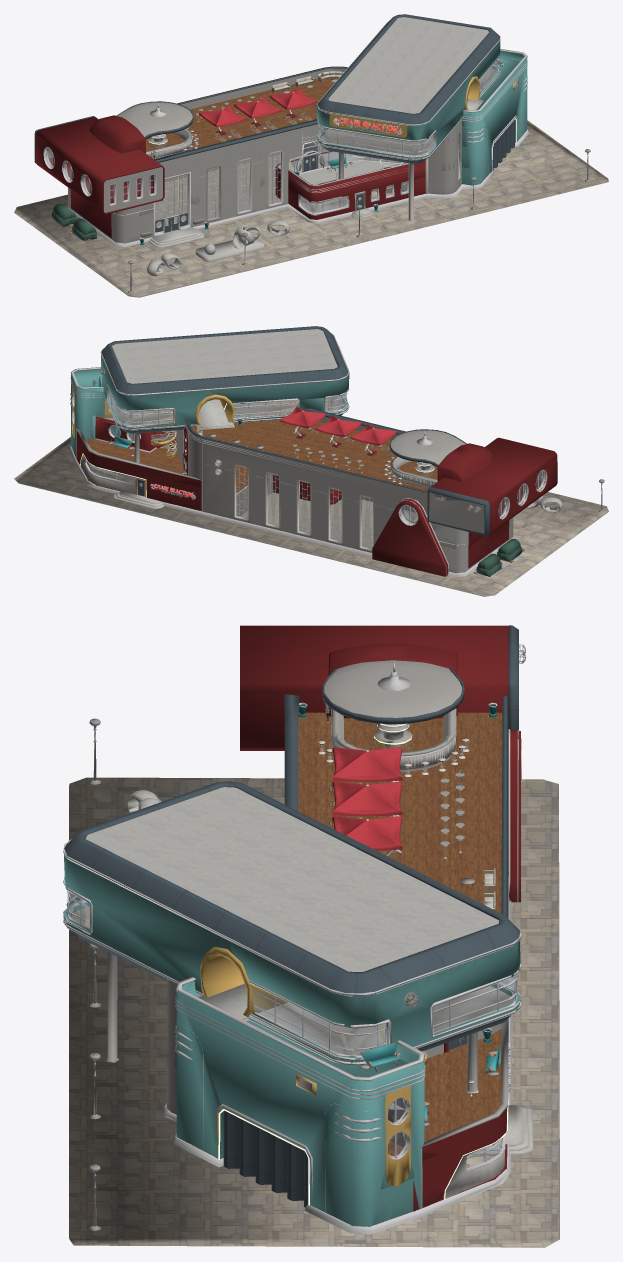
Rendered from cargo_retro_lounge.glb.
The picture shows the model from 3 angles, top to bottom: view 1: azimuth 30°, elevation 25°; view 2: azimuth 150°, elevation 25°; view 3: azimuth 270°, elevation 25°; orthographic projection. The views are drawn at different scales.
Parts seen in each view (by area): view 1: KB3D_ATP_BldgSmClub_A_Building, KB3D_ATP_BldgSmClub_A_Base, KB3D_ATP_BldgSmClub_A_Bar, KB3D_ATP_BldgSmClub_A_Building_transparent, KB3D_ATP_PropSculpture_C_Main, KB3D_ATP_PropUmbrella_B_Main.002, KB3D_ATP_PropUmbrella_B_Main, KB3D_ATP_PropUmbrella_B_Main.001, KB3D_ATP_BldgSmClub_A_SignageB, KB3D_ATP_PropSculpture_B_Main, KB3D_ATP_BldgSmClub_A_DumpsterB, KB3D_ATP_BldgSmClub_A_DumpsterA; view 2: KB3D_ATP_BldgSmClub_A_Building, KB3D_ATP_BldgSmClub_A_Base, KB3D_ATP_BldgSmClub_A_Bar, KB3D_ATP_BldgSmClub_A_Building_transparent, KB3D_ATP_PropUmbrella_B_Main.001, KB3D_ATP_PropUmbrella_B_Main, KB3D_ATP_PropUmbrella_B_Main.002, KB3D_ATP_BldgSmClub_A_DumpsterA, KB3D_ATP_BldgSmClub_A_DumpsterB; view 3: KB3D_ATP_BldgSmClub_A_Building, KB3D_ATP_BldgSmClub_A_Base, KB3D_ATP_BldgSmClub_A_Bar, KB3D_ATP_BldgSmClub_A_Building_transparent, KB3D_ATP_PropUmbrella_B_Main.002, KB3D_ATP_PropUmbrella_B_Main.001, KB3D_ATP_PropUmbrella_B_Main.
Boxes of the visible parts, x1,y1,x2,y2 form: KB3D_ATP_BldgSmClub_A_Building: (34, 14, 528, 247); KB3D_ATP_BldgSmClub_A_Base: (14, 120, 608, 297); KB3D_ATP_BldgSmClub_A_Bar: (89, 101, 193, 159); KB3D_ATP_BldgSmClub_A_Building_transparent: (48, 58, 498, 225); KB3D_ATP_PropSculpture_C_Main: (195, 224, 264, 261); KB3D_ATP_PropUmbrella_B_Main.002: (234, 97, 281, 127); KB3D_ATP_PropUmbrella_B_Main: (269, 88, 317, 118); KB3D_ATP_PropUmbrella_B_Main.001: (199, 105, 246, 135); KB3D_ATP_BldgSmClub_A_SignageB: (333, 117, 402, 135); KB3D_ATP_PropSculpture_B_Main: (146, 253, 181, 276); KB3D_ATP_BldgSmClub_A_DumpsterB: (72, 218, 96, 240); KB3D_ATP_BldgSmClub_A_DumpsterA: (52, 203, 76, 226); KB3D_ATP_BldgSmClub_A_Building: (69, 326, 557, 576); KB3D_ATP_BldgSmClub_A_Base: (14, 437, 608, 596); KB3D_ATP_BldgSmClub_A_Bar: (389, 429, 493, 487); KB3D_ATP_BldgSmClub_A_Building_transparent: (88, 389, 543, 548); KB3D_ATP_PropUmbrella_B_Main.001: (349, 424, 397, 456); KB3D_ATP_PropUmbrella_B_Main: (279, 406, 326, 439); KB3D_ATP_PropUmbrella_B_Main.002: (314, 415, 362, 447); KB3D_ATP_BldgSmClub_A_DumpsterA: (476, 553, 501, 576); KB3D_ATP_BldgSmClub_A_DumpsterB: (497, 538, 521, 561); KB3D_ATP_BldgSmClub_A_Building: (63, 625, 532, 1234); KB3D_ATP_BldgSmClub_A_Base: (69, 777, 559, 1247); KB3D_ATP_BldgSmClub_A_Bar: (322, 643, 464, 771); KB3D_ATP_BldgSmClub_A_Building_transparent: (67, 890, 517, 1157); KB3D_ATP_PropUmbrella_B_Main.002: (332, 781, 403, 819); KB3D_ATP_PropUmbrella_B_Main.001: (332, 747, 403, 785); KB3D_ATP_PropUmbrella_B_Main: (332, 816, 403, 856).
Bounding box in the file's own units: 27.97 × 6.3 × 12.54.
36 materials, 36 textured.
